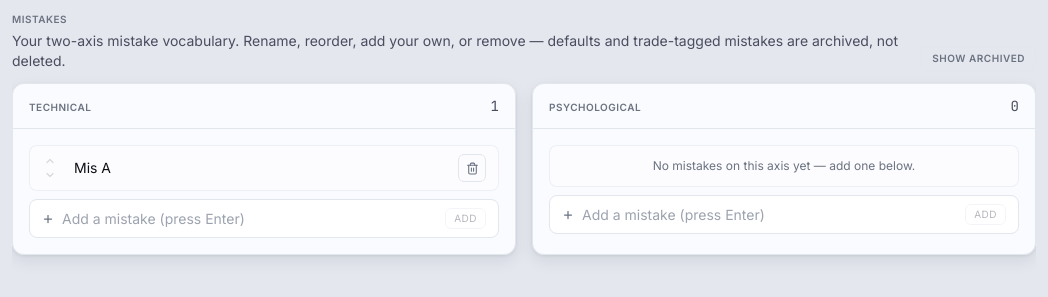
VocabularyEditor — the hard-delete branch is no longer silent (Mistakes) › an archive STILL shows the kept-in-history note (the working branch is not broken)
Click the button named "Remove Mis A".
click(472, 168)  # box [458, 154, 486, 182]
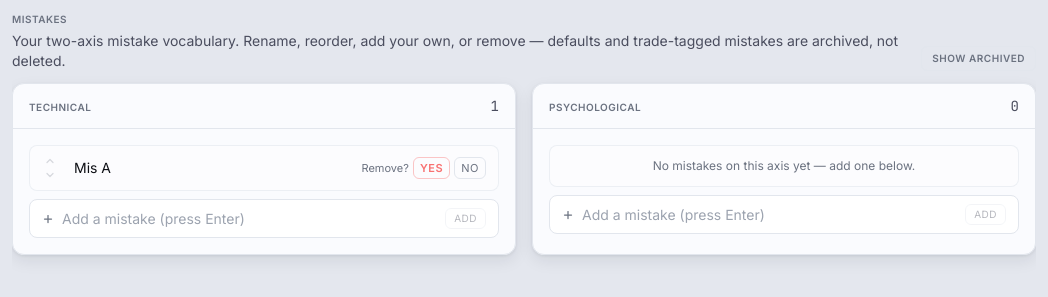
Click the button "Yes".
click(432, 168)  # box [413, 157, 450, 179]
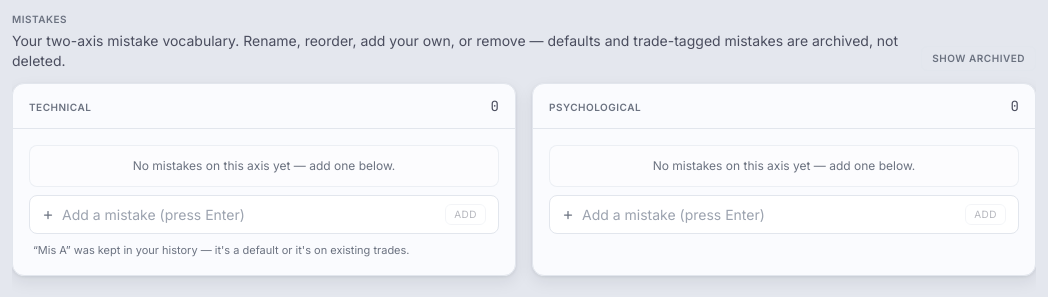
Expected: the text "kept in your history" shows "Mis A", [33, 243, 410, 257]
